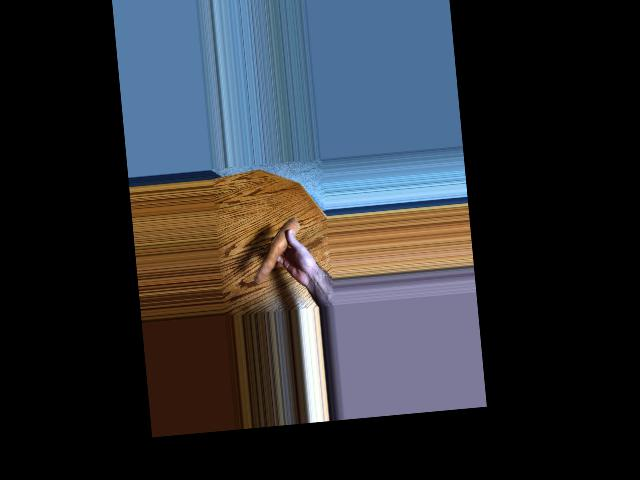sweet_potato: (251, 222, 306, 283)
